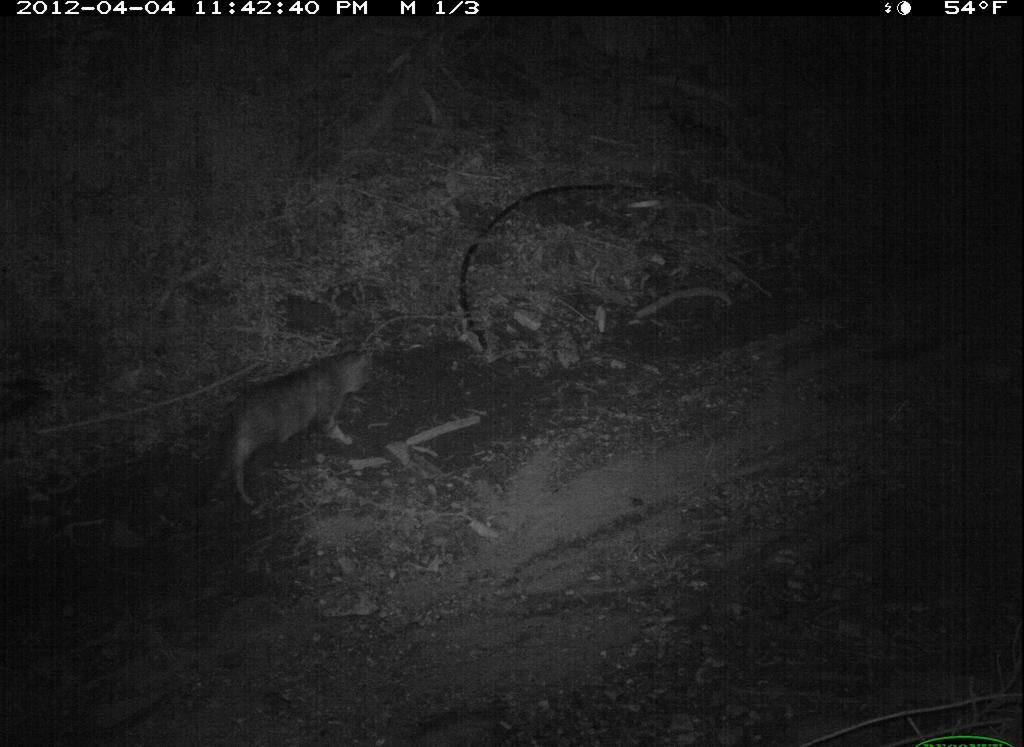cat: (189, 332, 382, 519)
